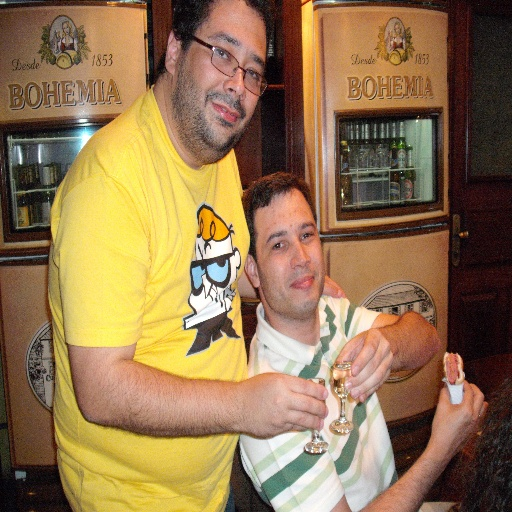hand: (238, 369, 328, 438), (429, 375, 490, 460), (330, 327, 393, 403), (318, 274, 348, 298)
